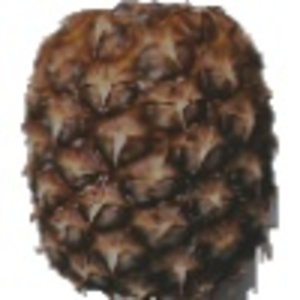abacaxi: (14, 2, 282, 294)
